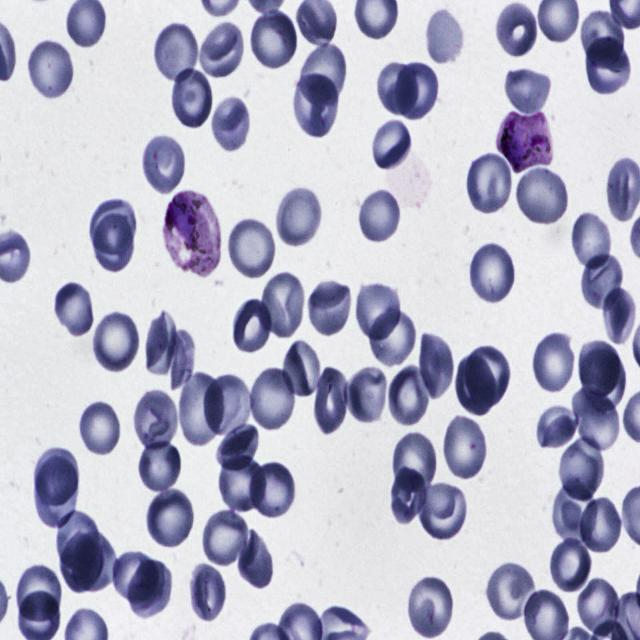difficult: (161, 190, 221, 278)
red blood cell: (203, 369, 252, 442), (225, 216, 278, 281), (442, 410, 489, 483), (91, 307, 141, 375), (570, 385, 620, 453), (246, 365, 297, 431), (180, 365, 221, 447), (406, 570, 454, 640), (463, 340, 511, 410), (298, 40, 350, 104), (25, 37, 76, 102), (273, 184, 324, 249), (34, 458, 80, 530), (259, 268, 306, 338), (247, 8, 299, 71), (467, 240, 518, 304), (150, 20, 200, 85), (515, 164, 568, 225), (487, 560, 539, 622), (559, 432, 605, 502), (214, 450, 265, 513), (352, 280, 404, 341), (464, 151, 515, 213), (368, 305, 418, 368), (552, 479, 598, 547), (577, 338, 624, 404), (202, 508, 252, 570), (388, 435, 441, 493), (132, 389, 180, 453), (144, 488, 196, 547), (418, 482, 468, 543), (250, 459, 298, 522), (293, 73, 341, 136), (88, 195, 136, 258), (169, 63, 212, 133), (574, 575, 621, 639), (72, 531, 119, 594), (31, 448, 80, 508), (140, 134, 188, 195), (586, 37, 634, 98), (580, 6, 625, 71), (126, 560, 175, 619), (531, 330, 576, 394), (414, 327, 454, 399), (15, 562, 61, 624), (548, 532, 593, 595), (306, 278, 354, 337), (374, 56, 422, 115), (346, 362, 389, 427), (576, 496, 624, 554), (310, 364, 348, 437), (580, 250, 624, 313), (91, 212, 136, 273), (136, 437, 184, 494), (388, 364, 432, 426), (55, 511, 101, 570), (61, 533, 104, 596), (396, 62, 441, 122), (199, 21, 246, 78), (280, 337, 325, 396), (111, 551, 162, 603), (570, 210, 614, 270), (78, 398, 122, 456), (210, 95, 252, 155), (389, 465, 429, 528), (144, 309, 180, 378), (498, 5, 540, 64), (425, 5, 466, 65), (54, 280, 95, 340), (503, 66, 554, 114), (358, 189, 402, 244), (456, 354, 496, 414), (188, 562, 226, 623), (238, 528, 274, 591), (602, 286, 638, 348), (232, 301, 272, 356), (215, 423, 261, 470), (370, 123, 413, 171), (168, 325, 198, 393), (535, 407, 578, 450)
trophozoite: (494, 106, 556, 174)
